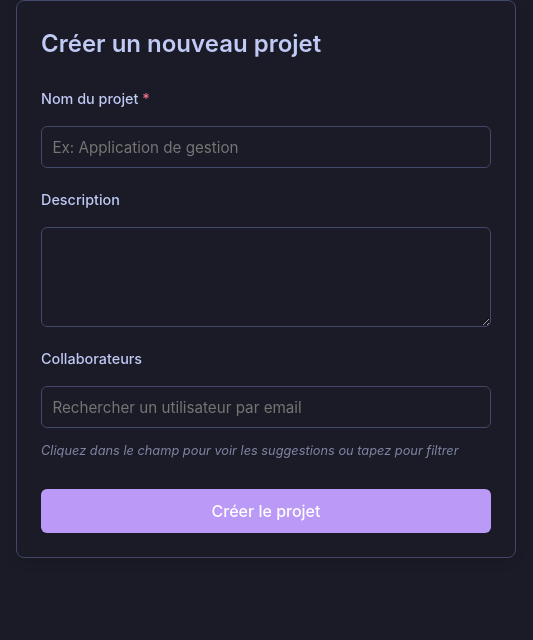
Test: CreateProjectForm › devrait afficher un message de succès après création
Step 1. Type "Mon Projet" into the field named "projectName" → (266, 147), box [41, 126, 491, 168]
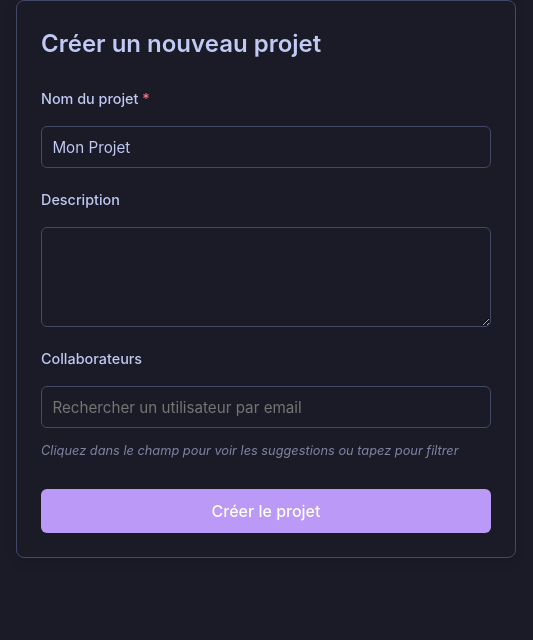
Step 2. Submit the form
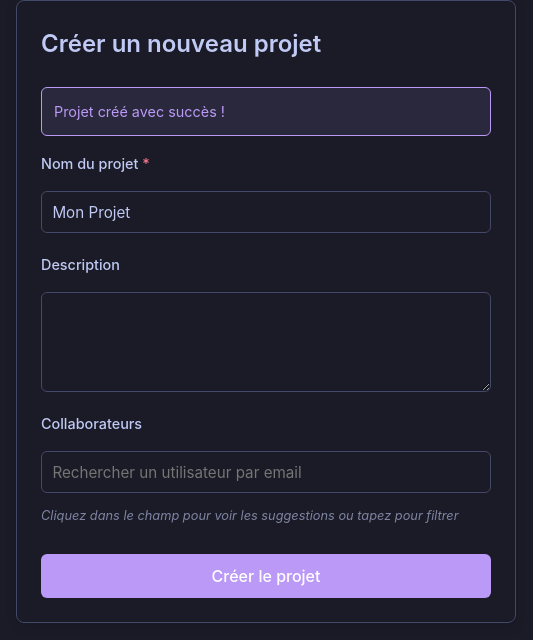
Check: the form shows "Projet créé avec succès", box [54, 103, 225, 120]
